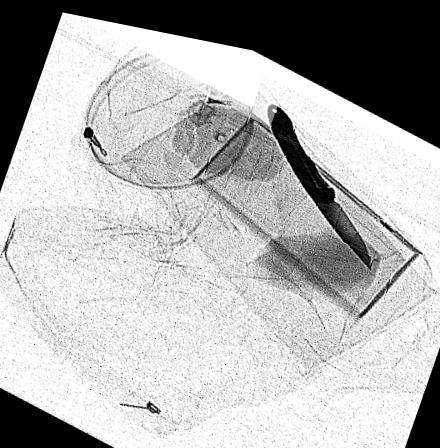Knife: (265, 89, 372, 257)
